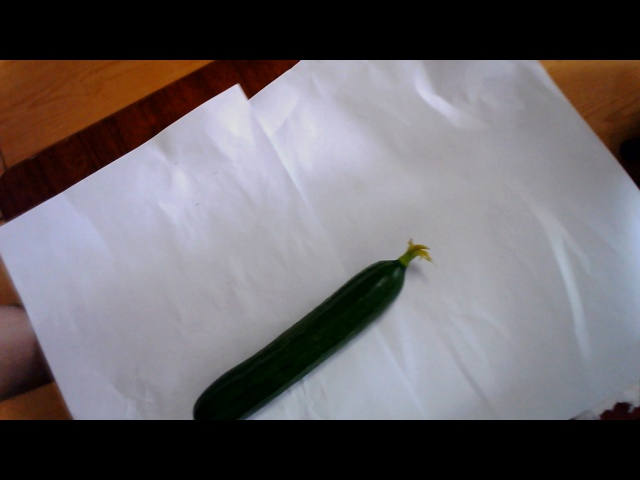cucumber: (154, 256, 432, 410)
